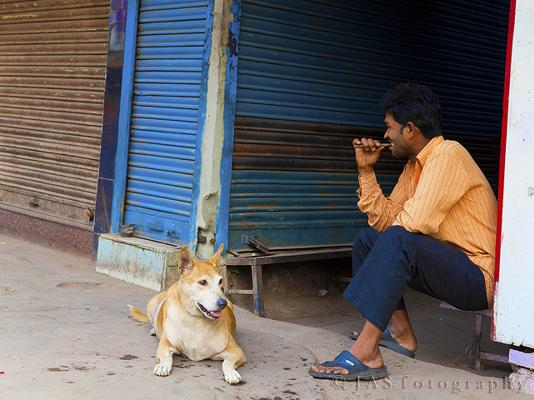person: (311, 87, 498, 378)
